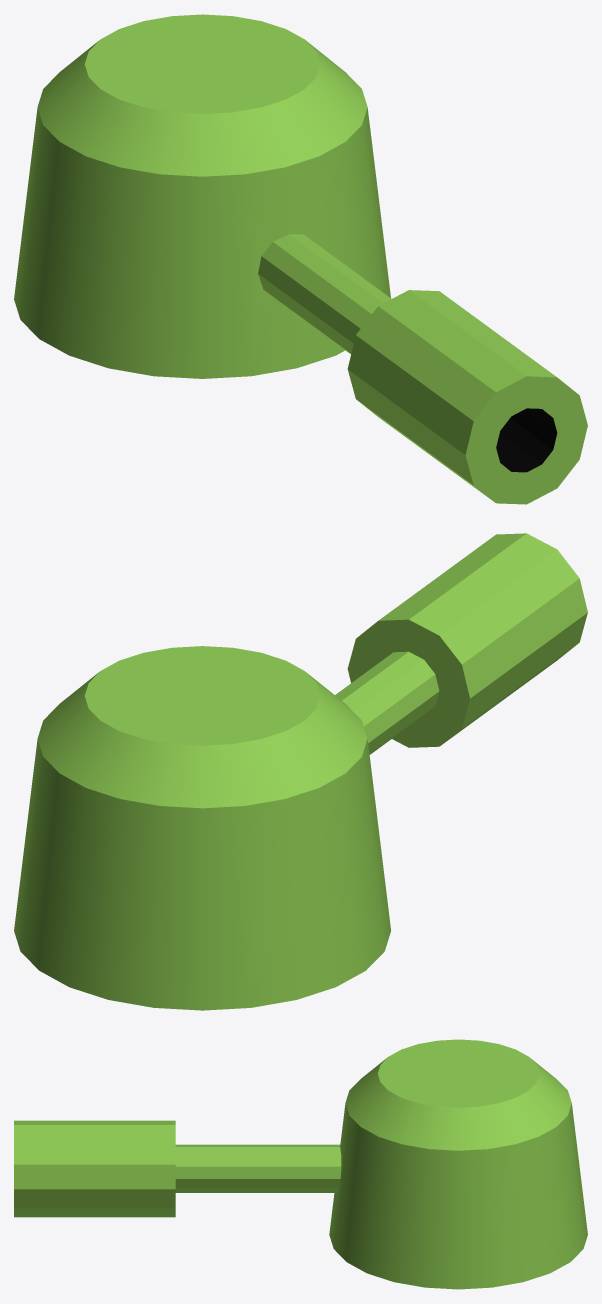
File: Turret.fbx
3 renders of one model, top to bottom at view 1: azimuth 30°, elevation 25°; view 2: azimuth 150°, elevation 25°; view 3: azimuth 270°, elevation 25°, orthographic. The views are drawn at different scales.
Visible parts, largest first — view 1: Group1; view 2: Group1; view 3: Group1.
Boxes of the visible parts, <box> form: Group1: <box>14,14,587,504</box>; Group1: <box>14,533,587,1010</box>; Group1: <box>14,1039,587,1289</box>.
Size of the model in its own units: 19.89 by 13.67 by 44.13.
